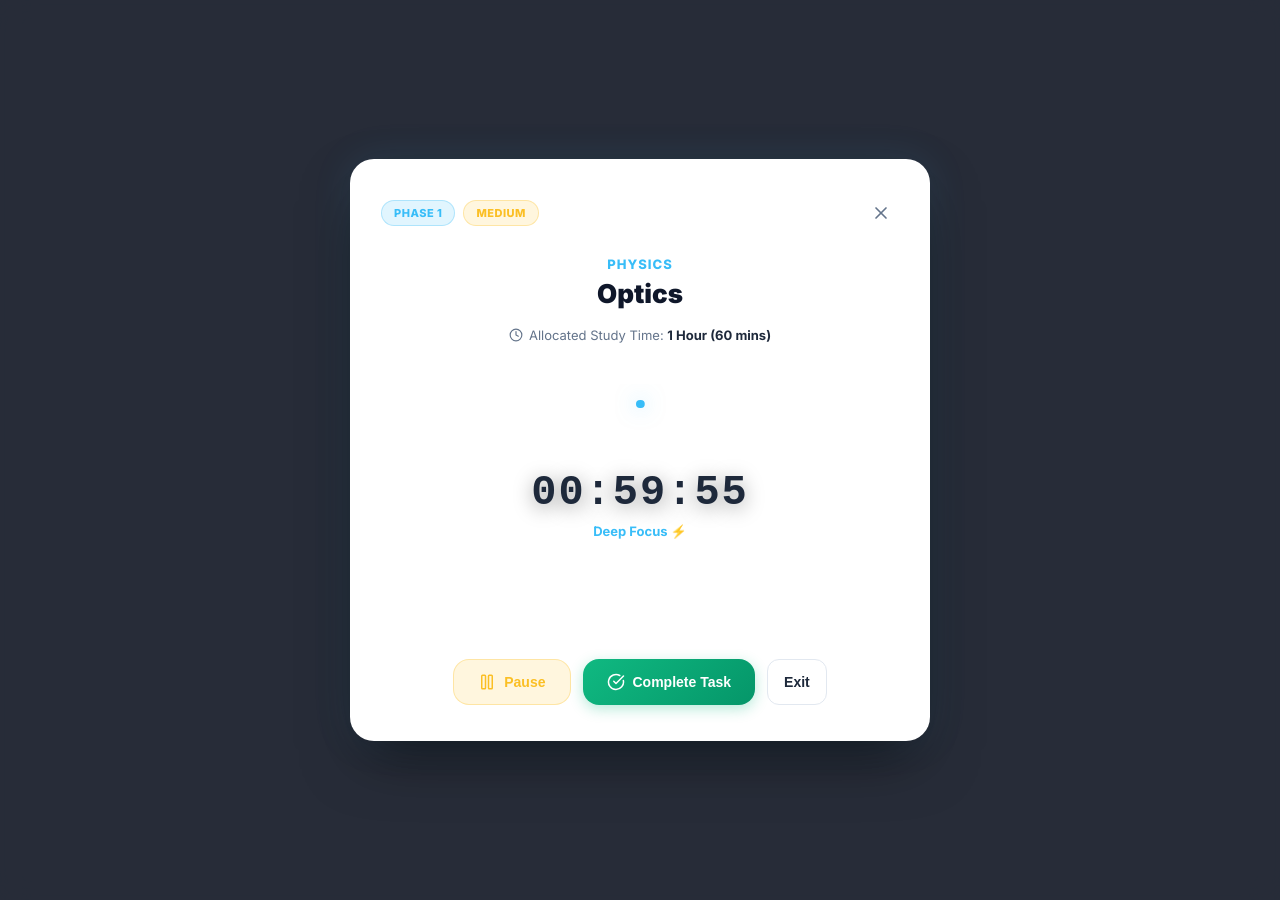
Test: FocusMode Component - Exact Timetable Allocation & No Breaks › Pause and Resume freeze and continue at exact second
This screenshot has width=1280, height=900.
Expected: the text "00:59:55" is shown, [531, 469, 749, 517]
Note: Click Pause
Click the button with aria-label "pause timer" at (512, 682), box [453, 659, 571, 705]
Wait 10000 ms
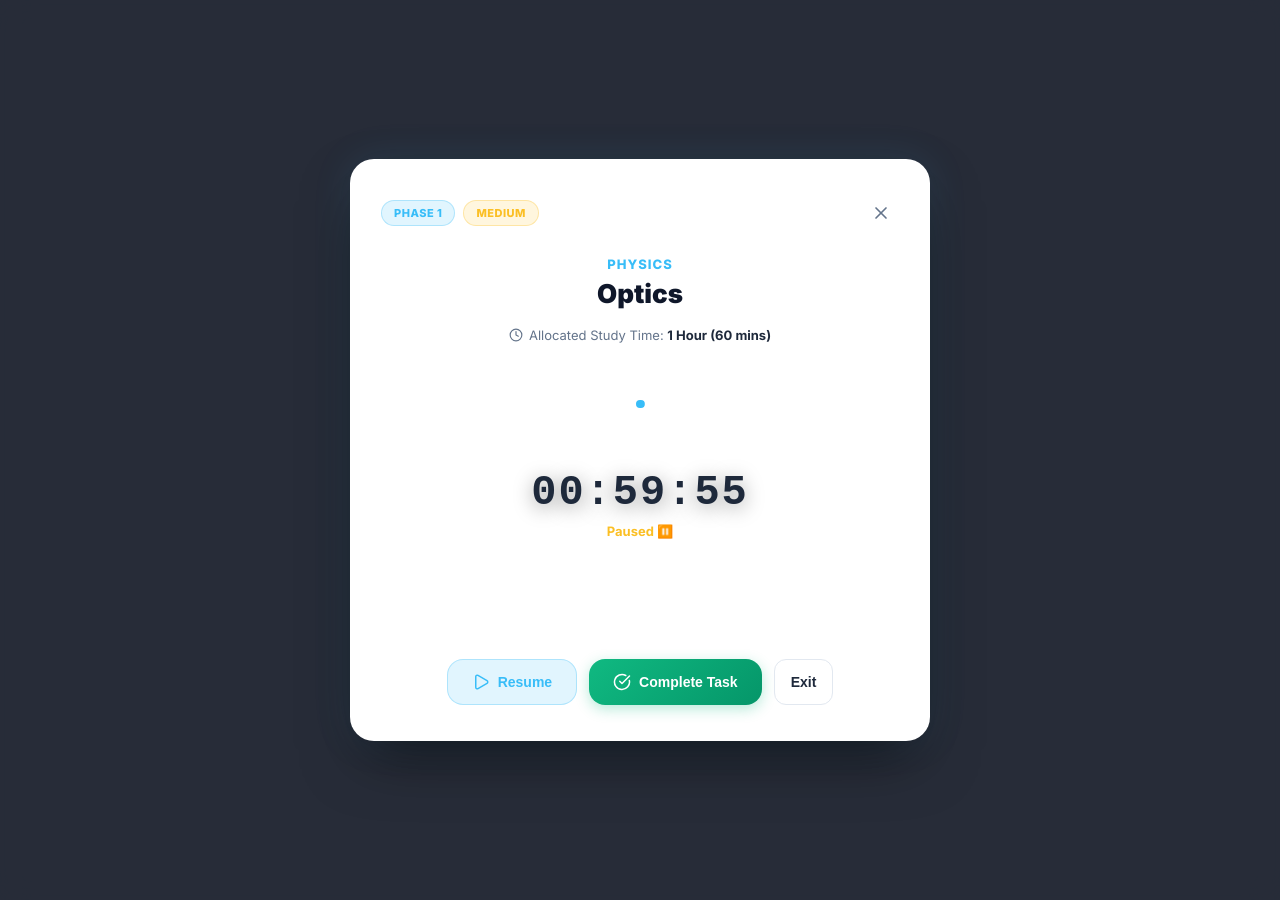
Expected: the text "00:59:55" is shown, [531, 469, 749, 517]
Expected: the text "Paused ⏸️" is shown, [607, 523, 673, 539]
Note: Click Resume
Click the button with aria-label "resume timer" at (512, 682), box [447, 659, 577, 705]
Wait 2000 ms
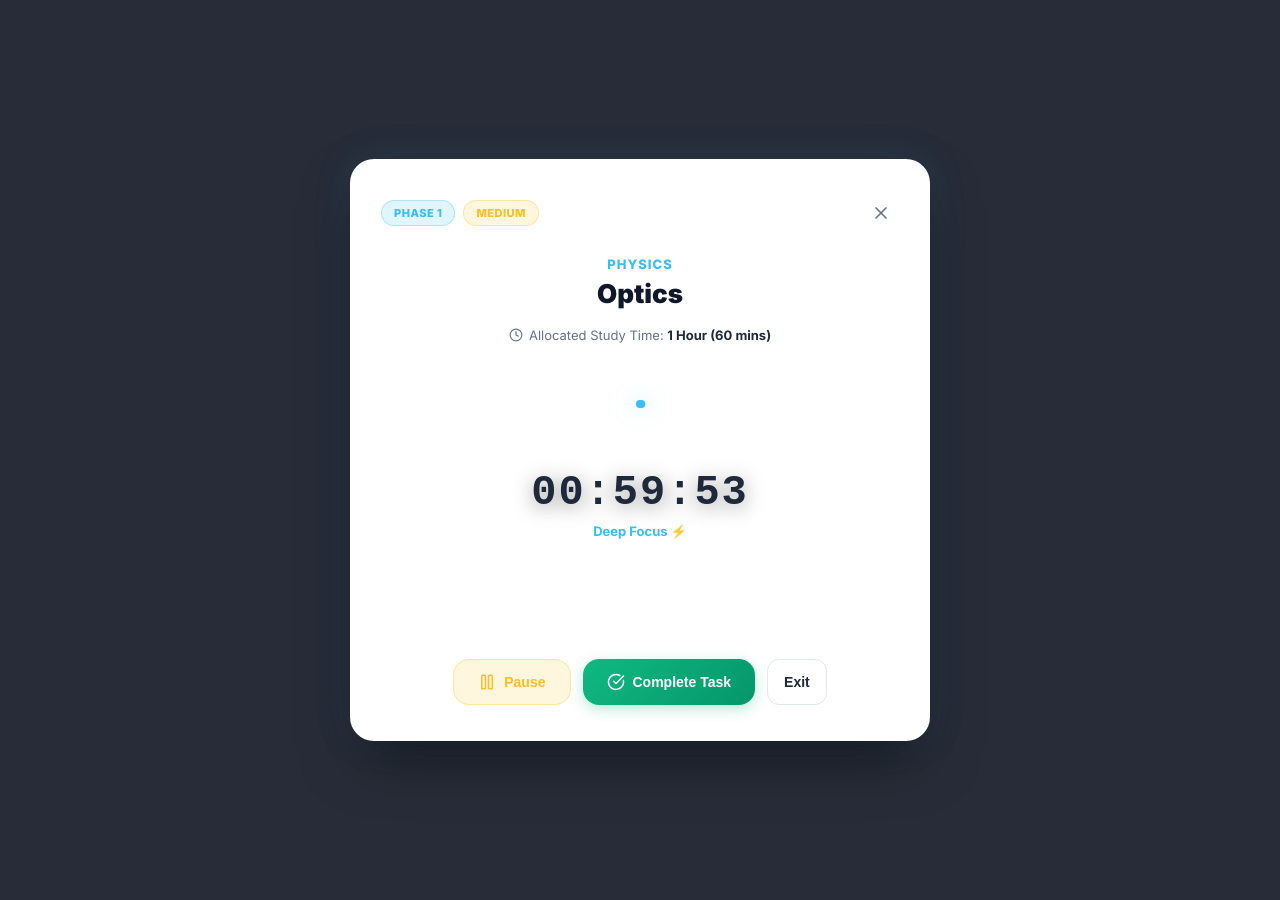
Expected: the text "00:59:53" is shown, [531, 469, 749, 517]
